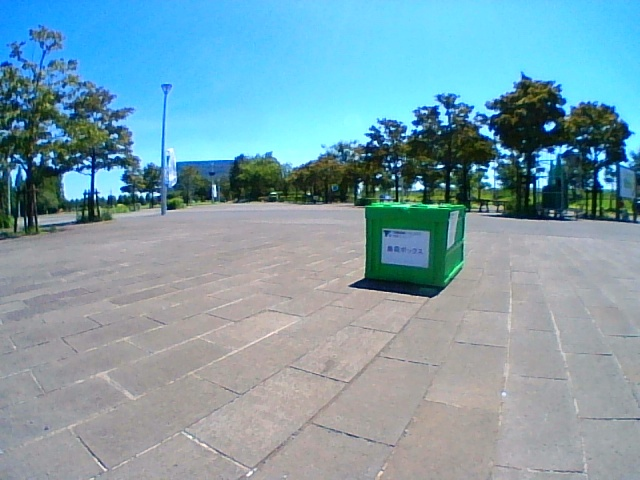green_box: (366, 202, 463, 288)
tag: (447, 212, 458, 248)
